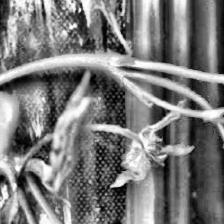Gray Mold: (110, 99, 194, 189)
